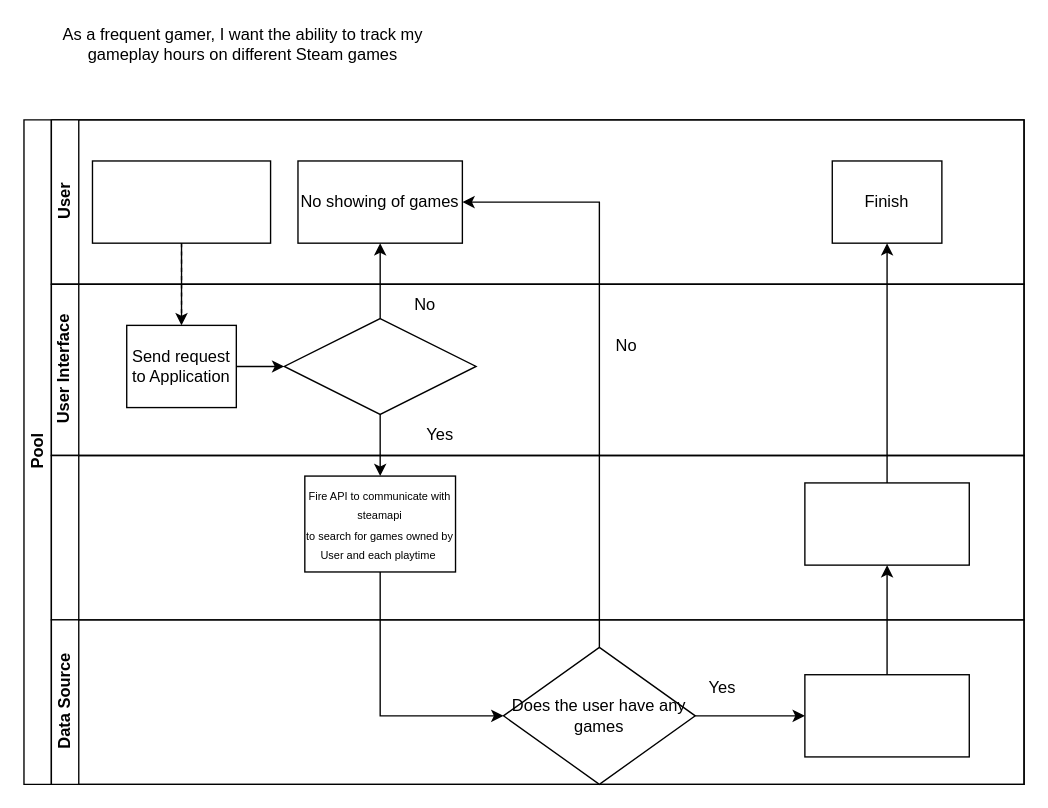
This 1048x808 diagram has some shape labels left out. Each missing label, with the box of its shape:
Application: (50, 454, 1024, 620)
has the user linked Steam account with the plugin?: (283, 317, 476, 414)
Output to Screen: (804, 482, 969, 565)
return list of owned games and playtime for each: (804, 673, 969, 757)
Track gameplay hours on different steam games: (91, 160, 271, 243)
